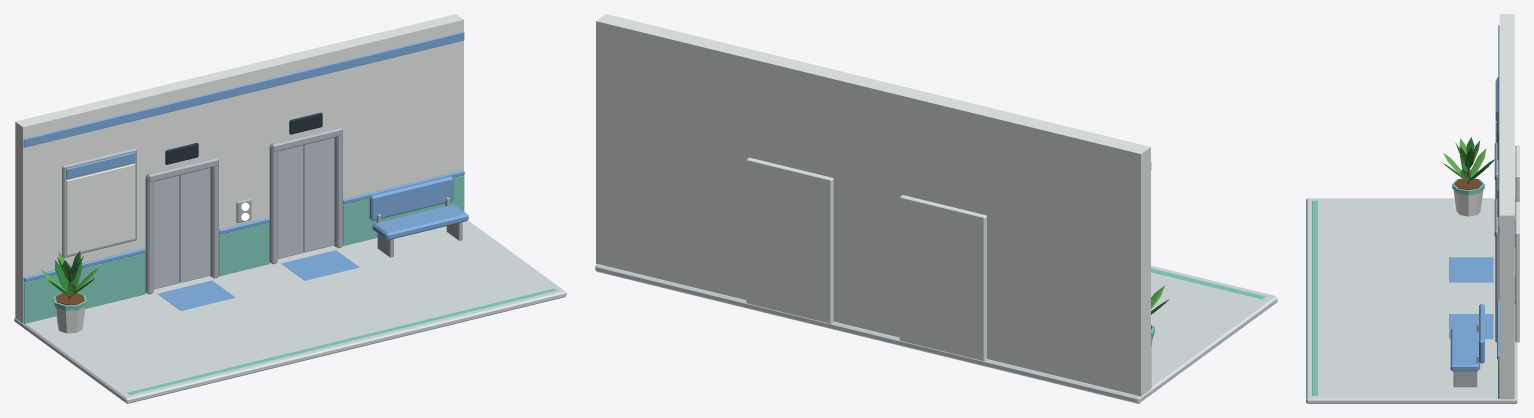
File: hospital-elevator-lobby.glb
3 renders of one model, left to right at view 1: azimuth 30°, elevation 25°; view 2: azimuth 150°, elevation 25°; view 3: azimuth 270°, elevation 25°, orthographic. The views are drawn at different scales.
Visible parts, largest first — view 1: Wall, Floor, DirectorySign_Panel, TopBand, Wainscot, ElevatorA_DoorRight, ElevatorB_DoorRight, ElevatorB_DoorLeft, ElevatorA_DoorLeft, Bench_Back, Wainscot.001, Wainscot.002 (+17 smaller); view 2: Wall, ElevatorB_CarBack, ElevatorA_CarBack, Floor; view 3: Floor, Wall, Bench_Seat, Floor_BorderInlay, Floor_Runner_A, ElevatorB_CarBack, Floor_Runner_B, Plant_Pot, Bench_LegFrame.001, ElevatorB_JambR, TopBand, Bench_Back (+3 smaller).
Boxes of the visible parts, box(x1,y1,x2,y2) form: Wall: box(15, 14, 463, 323); Floor: box(14, 220, 566, 403); DirectorySign_Panel: box(66, 164, 135, 255); TopBand: box(23, 31, 464, 147); Wainscot: box(23, 253, 145, 323); ElevatorA_DoorRight: box(179, 168, 210, 282); ElevatorB_DoorRight: box(303, 138, 334, 252); ElevatorB_DoorLeft: box(277, 145, 303, 258); ElevatorA_DoorLeft: box(153, 175, 179, 289); Bench_Back: box(369, 176, 453, 220); Wainscot.001: box(219, 223, 269, 276); Wainscot.002: box(343, 175, 464, 245); Wall: box(596, 14, 1150, 396); ElevatorB_CarBack: box(746, 157, 833, 323); ElevatorA_CarBack: box(899, 195, 986, 361); Floor: box(595, 264, 1277, 403); Floor: box(1306, 198, 1517, 403); Wall: box(1499, 14, 1514, 399); Bench_Seat: box(1450, 328, 1478, 371); Floor_BorderInlay: box(1312, 200, 1317, 395); Floor_Runner_A: box(1449, 257, 1493, 282); ElevatorB_CarBack: box(1515, 202, 1519, 342); Floor_Runner_B: box(1449, 314, 1493, 339); Plant_Pot: box(1453, 190, 1483, 216); Bench_LegFrame.001: box(1453, 371, 1477, 387); ElevatorB_JambR: box(1495, 232, 1499, 342); TopBand: box(1498, 25, 1499, 233); Bench_Back: box(1479, 304, 1484, 363).
Bounding box in the file's own units: 32 × 14 × 14.35.
